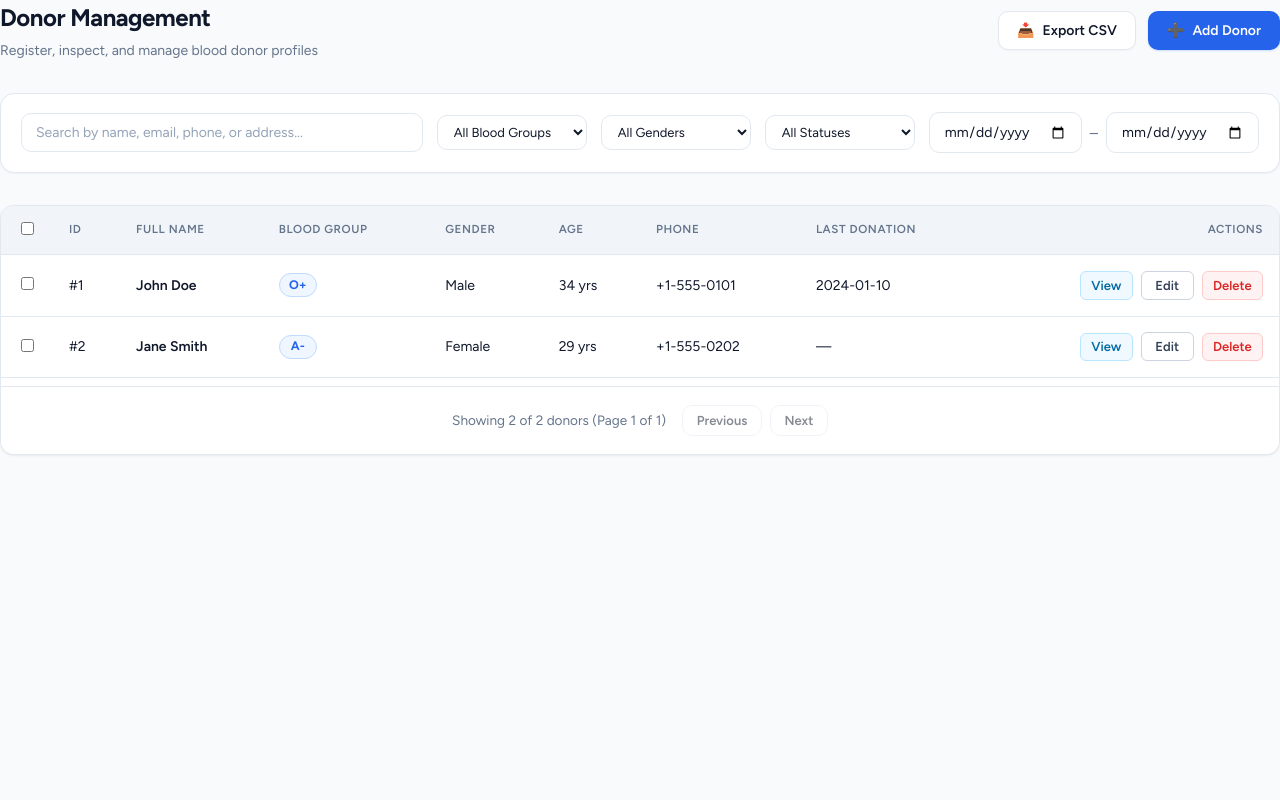
Donors Page Component › validates required fields in Add Donor modal
This screenshot has width=1280, height=800.
Click the button with test id "add-donor-btn": (1214,30) x1=1148 y1=11 x2=1279 y2=50
(page scrolled)
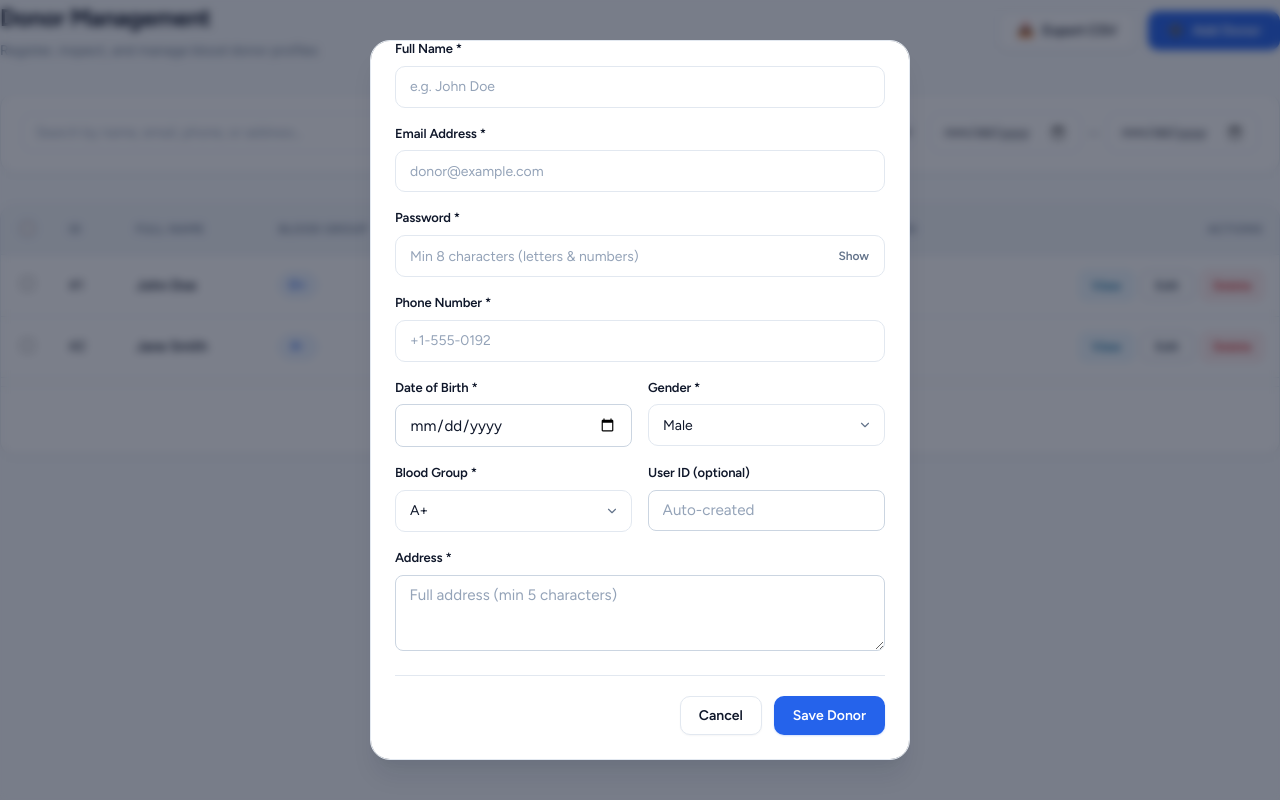
Check: the element with test id "donor-form-modal" is shown
# Click save without entering inputs
Click the button with test id "submit-donor-btn": (829,716) x1=774 y1=696 x2=885 y2=735
(page scrolled)
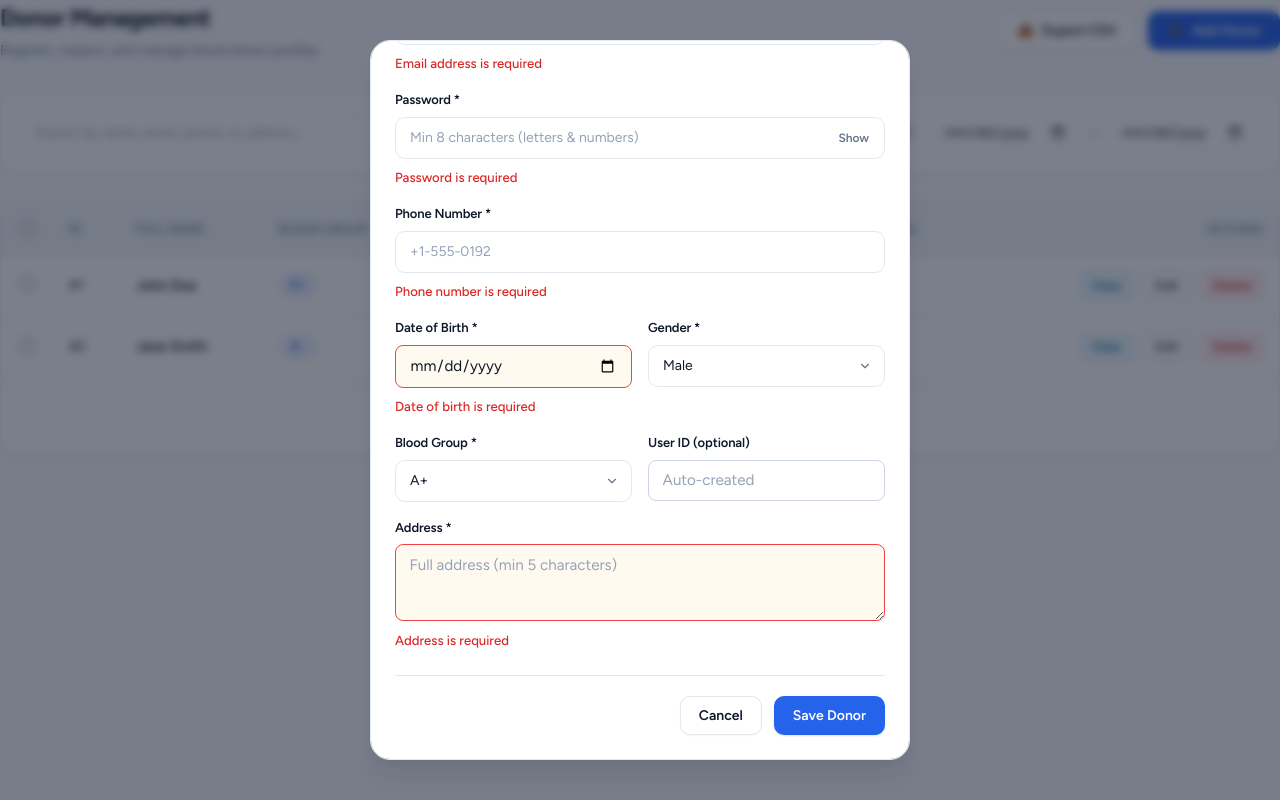
Check: the text "Email address is required" is shown, box x1=395 y1=55 x2=542 y2=71
Check: the text "Password is required" is shown, box x1=395 y1=169 x2=517 y2=185
Check: the text "Phone number is required" is shown, box x1=395 y1=284 x2=547 y2=300
